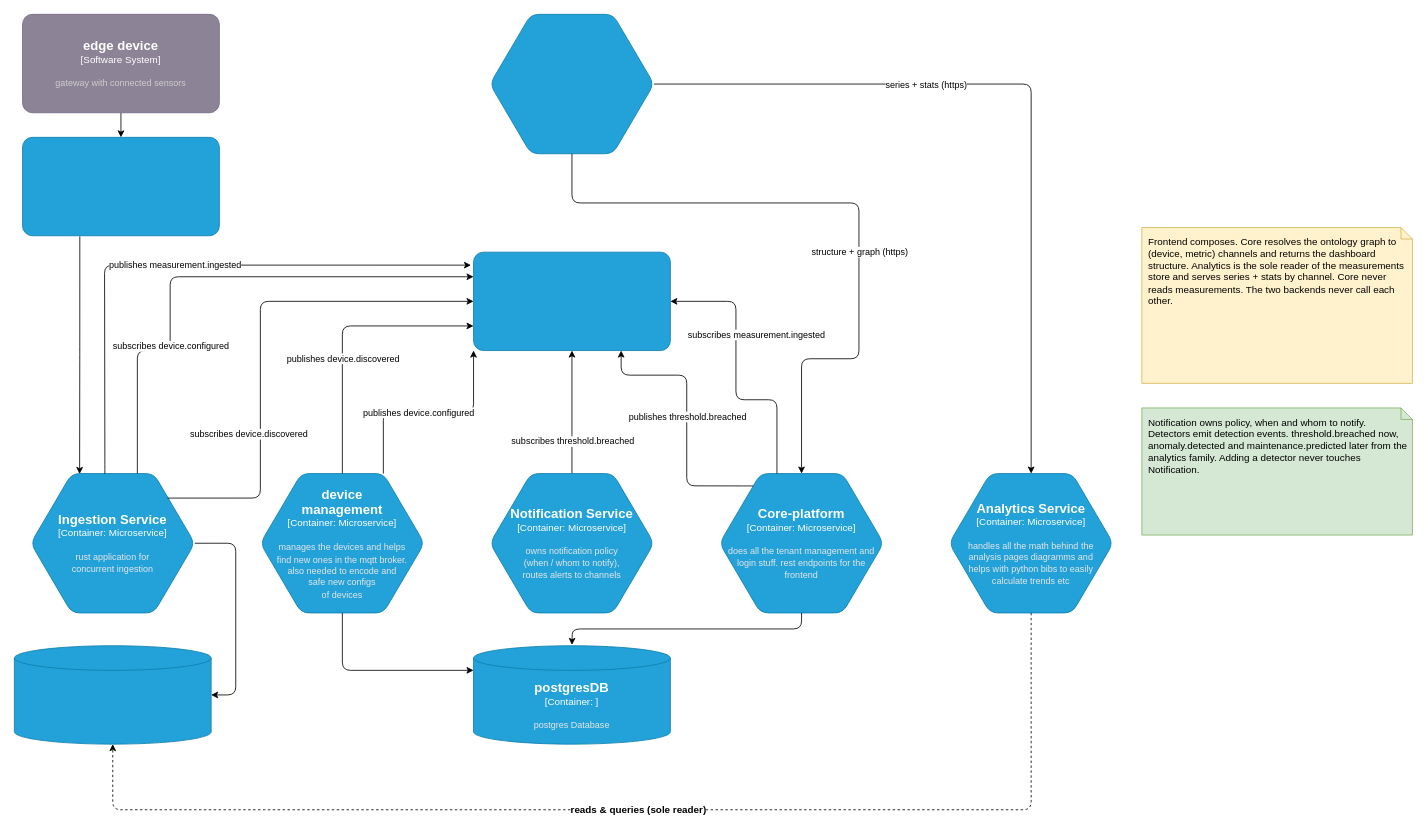
The diagram is 1427 pixels wide and 831 high, and some of its shapes have lost their labels. Each missing label, with the centre of its shape:
Kafka Broker [Container: Apache Kafka] Broker for Events and extensiv logging: (x=571, y=301)
Mosquitto Broker [Container: Mosquitto Service] Broker MQTT messages: (x=120, y=186)
timescaleDB [Container: ] measurements store, ingestion writes / analytics reads: (x=112, y=694)
Web-App [Container: Microservice] Nextjs app that handles the ui: (x=571, y=84)
